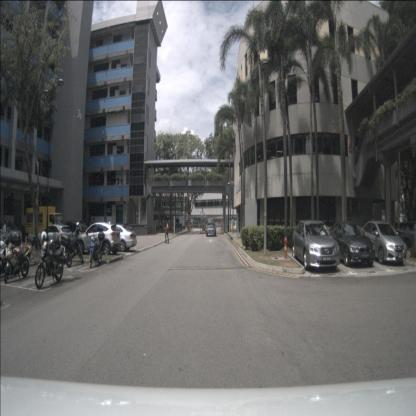cone: (24, 235, 29, 254), (20, 240, 24, 256)
